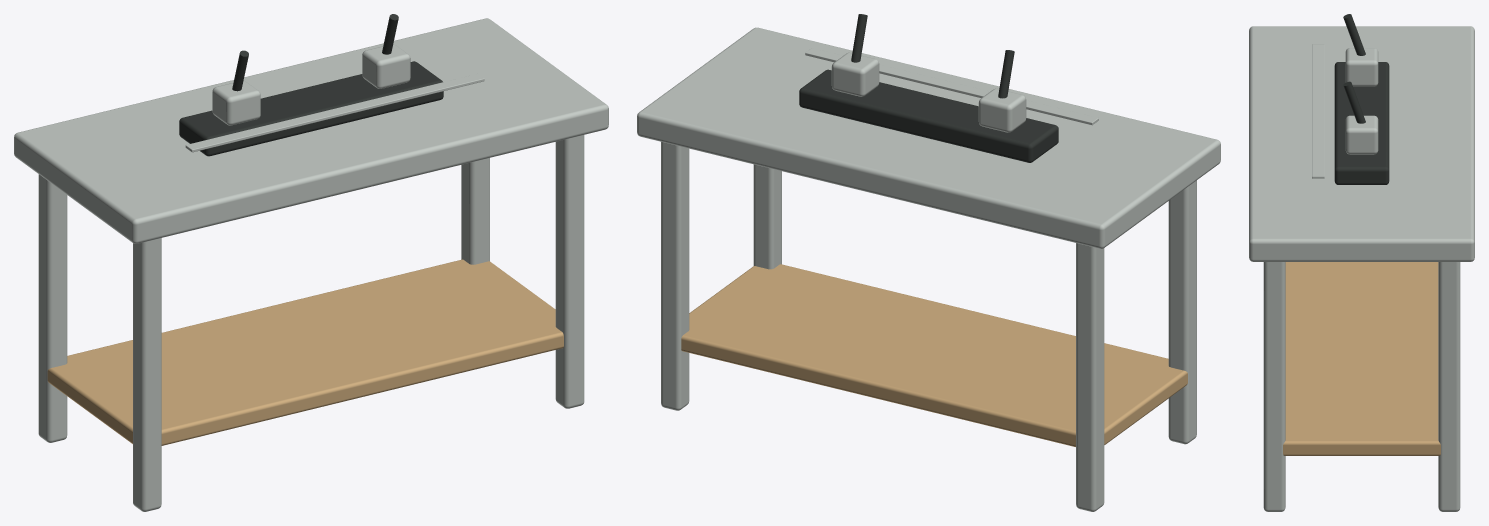
The model's file is sawmill-and-timber-yard-blade-setting-bench-1231a70e__31169.glb.
The picture shows the model from 3 angles, left to right: view 1: azimuth 30°, elevation 25°; view 2: azimuth 150°, elevation 25°; view 3: azimuth 270°, elevation 25°; orthographic projection. The views are drawn at different scales.
Parts seen in each view (by area): view 1: blade-setting-bench; view 2: blade-setting-bench; view 3: blade-setting-bench.
Part boxes in pixels (<box>): blade-setting-bench: <box>14,14,608,511</box>; blade-setting-bench: <box>637,14,1220,511</box>; blade-setting-bench: <box>1249,14,1474,511</box>.
Size of the model in its own units: 1.4 by 1.1 by 0.6199.
